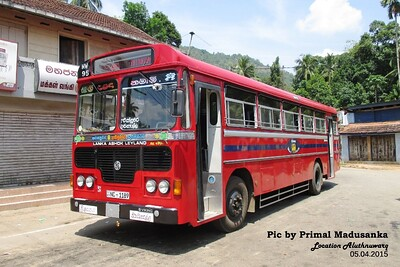bus: (70, 43, 341, 232)
